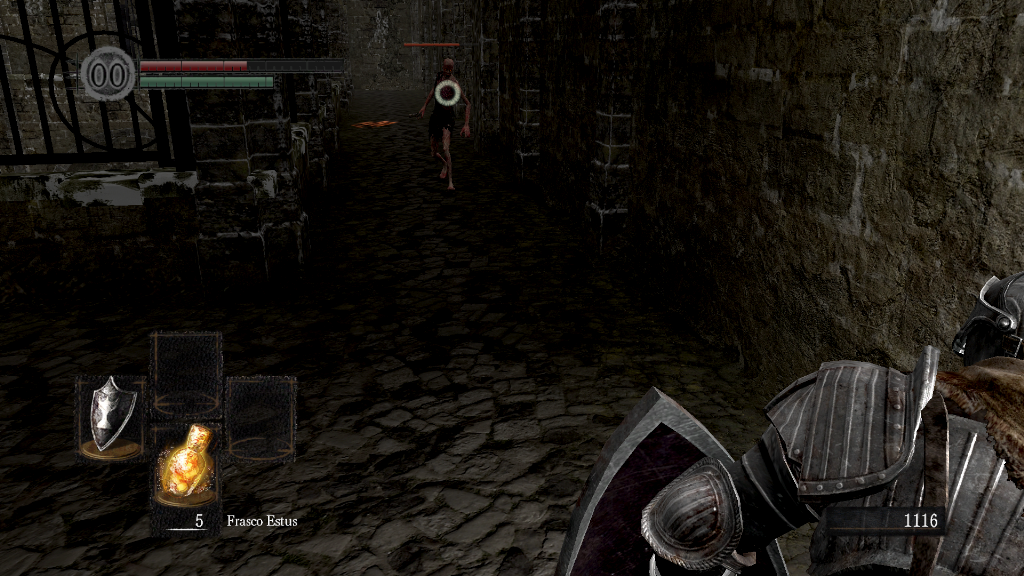health: (138, 58, 343, 71)
hollow: (407, 56, 475, 194)
humanity: (80, 45, 136, 102)
player: (557, 271, 1024, 575)
souls: (825, 506, 945, 536)
stamina: (138, 74, 274, 88)
